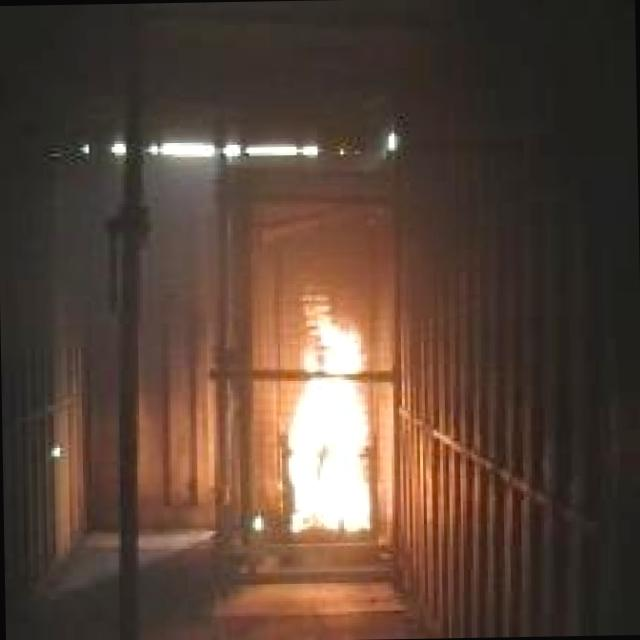fire: (272, 286, 391, 548)
